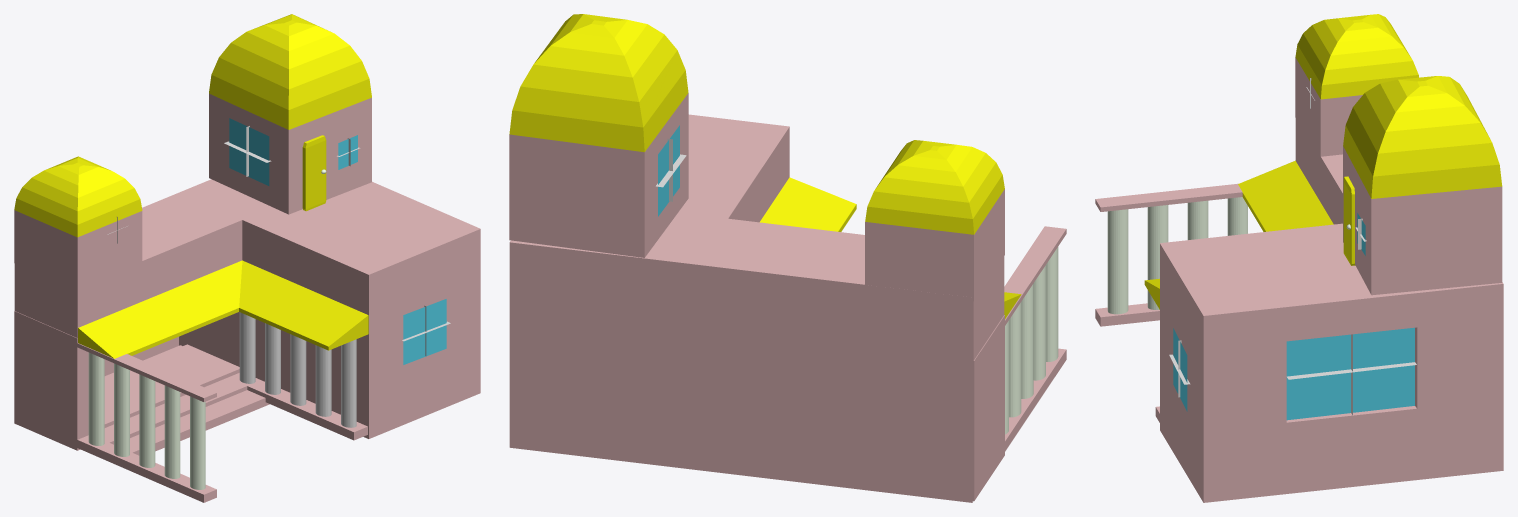
Rendered from Extracteur or.fbx.
3 views of the same model, side by side, from view 1: azimuth 30°, elevation 25°; view 2: azimuth 150°, elevation 25°; view 3: azimuth 270°, elevation 25° (orthographic). The views are drawn at different scales.
Visible parts, largest first — view 1: Collection 2.001|HouseMain|Dupli|23, Collection 2.001|Coupole.001|Dupli|2, Collection 2.001|Cube.001|Dupli|, Collection 2.001|Coupole|Dupli|1, Collection 2.001|Cube|Dupli|3, Collection 2.001|Cube.003|Dupli|5, Collection 2.001|Cube.052|Dupli|12, Collection 2.001|Cube.009|Dupli|10, Collection 2.001|Cube.002|Dupli|4, Collection 2.001|window z.005|Dupli|41, Collection 2.001|Cube.010|Dupli|11, Collection 2.001|window z.002|Dupli|38 (+16 smaller); view 2: Collection 2.001|HouseMain|Dupli|23, Collection 2.001|Plane|Dupli|24, Collection 2.001|Coupole.001|Dupli|2, Collection 2.001|Cube.001|Dupli|, Collection 2.001|Coupole|Dupli|1, Collection 2.001|Cube|Dupli|3, Collection 2.001|Cube.052|Dupli|12, Collection 2.001|Cube.005|Dupli|7, Collection 2.001|Cube.002|Dupli|4, Collection 2.001|Cylinder.001|Dupli|13, Collection 2.001|Cylinder.002|Dupli|14, Collection 2.001|Cylinder.004|Dupli|16 (+2 smaller); view 3: Collection 2.001|HouseMain|Dupli|23, Collection 2.001|Coupole.001|Dupli|2, Collection 2.001|Coupole|Dupli|1, Collection 2.001|window z.004|Dupli|40, Collection 2.001|Cube.003|Dupli|5, Collection 2.001|Cube.001|Dupli|, Collection 2.001|Cylinder.004|Dupli|16, Collection 2.001|Cube.005|Dupli|7, Collection 2.001|Cylinder.003|Dupli|15, Collection 2.001|Cube.002|Dupli|4, Collection 2.001|porte|Dupli|26, Collection 2.001|Cylinder.002|Dupli|14 (+3 smaller).
Part boxes in pixels (box(x1,y1,x2,y2)): Collection 2.001|HouseMain|Dupli|23: box(179, 179, 480, 438); Collection 2.001|Coupole.001|Dupli|2: box(209, 14, 371, 214); Collection 2.001|Cube.001|Dupli|: box(14, 191, 245, 338); Collection 2.001|Coupole|Dupli|1: box(14, 156, 142, 290); Collection 2.001|Cube|Dupli|3: box(14, 311, 88, 450); Collection 2.001|Cube.003|Dupli|5: box(78, 260, 242, 358); Collection 2.001|Cube.052|Dupli|12: box(239, 260, 368, 350); Collection 2.001|Cube.009|Dupli|10: box(104, 344, 239, 427); Collection 2.001|Cube.002|Dupli|4: box(27, 418, 216, 502); Collection 2.001|window z.005|Dupli|41: box(403, 299, 446, 364); Collection 2.001|Cube.010|Dupli|11: box(130, 390, 269, 455); Collection 2.001|window z.002|Dupli|38: box(229, 118, 269, 185); Collection 2.001|HouseMain|Dupli|23: box(509, 114, 789, 465); Collection 2.001|Plane|Dupli|24: box(663, 291, 972, 502); Collection 2.001|Coupole.001|Dupli|2: box(509, 14, 688, 257); Collection 2.001|Cube.001|Dupli|: box(691, 218, 1004, 369); Collection 2.001|Coupole|Dupli|1: box(865, 140, 1004, 300); Collection 2.001|Cube|Dupli|3: box(972, 315, 1004, 501); Collection 2.001|Cube.052|Dupli|12: box(760, 177, 856, 231); Collection 2.001|Cube.005|Dupli|7: box(980, 226, 1066, 362); Collection 2.001|Cube.002|Dupli|4: box(980, 348, 1066, 488); Collection 2.001|Cylinder.001|Dupli|13: box(1009, 302, 1021, 417); Collection 2.001|Cylinder.002|Dupli|14: box(1021, 283, 1033, 398); Collection 2.001|Cylinder.004|Dupli|16: box(1046, 247, 1058, 361); Collection 2.001|HouseMain|Dupli|23: box(1160, 223, 1503, 502); Collection 2.001|Coupole.001|Dupli|2: box(1343, 76, 1502, 295); Collection 2.001|Coupole|Dupli|1: box(1295, 14, 1418, 158); Collection 2.001|window z.004|Dupli|40: box(1286, 327, 1414, 420); Collection 2.001|Cube.003|Dupli|5: box(1238, 160, 1333, 231); Collection 2.001|Cube.001|Dupli|: box(1295, 118, 1342, 224); Collection 2.001|Cylinder.004|Dupli|16: box(1107, 209, 1128, 314); Collection 2.001|Cube.005|Dupli|7: box(1095, 183, 1242, 211); Collection 2.001|Cylinder.003|Dupli|15: box(1147, 205, 1168, 309); Collection 2.001|Cube.002|Dupli|4: box(1095, 303, 1159, 326); Collection 2.001|porte|Dupli|26: box(1343, 176, 1355, 265); Collection 2.001|Cylinder.002|Dupli|14: box(1187, 200, 1208, 239).
Bounding box in the file's own units: 487 × 393 × 396.
